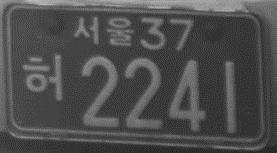1: (220, 58, 245, 135)
2: (79, 54, 121, 128), (124, 55, 164, 132)
3: (139, 15, 167, 51)
4: (165, 57, 209, 133)
7: (168, 17, 196, 53)
서울_O: (73, 14, 135, 49)
허: (21, 53, 64, 102)
